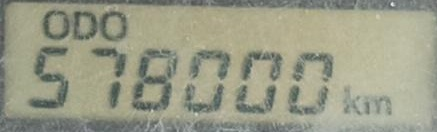0: (286, 51, 334, 116), (183, 49, 231, 113), (234, 51, 282, 115)
5: (27, 45, 70, 109)
7: (89, 46, 126, 110)
8: (130, 48, 178, 110)
X: (41, 9, 69, 40), (99, 10, 127, 41), (72, 11, 97, 41), (342, 84, 362, 117), (363, 94, 393, 116)
